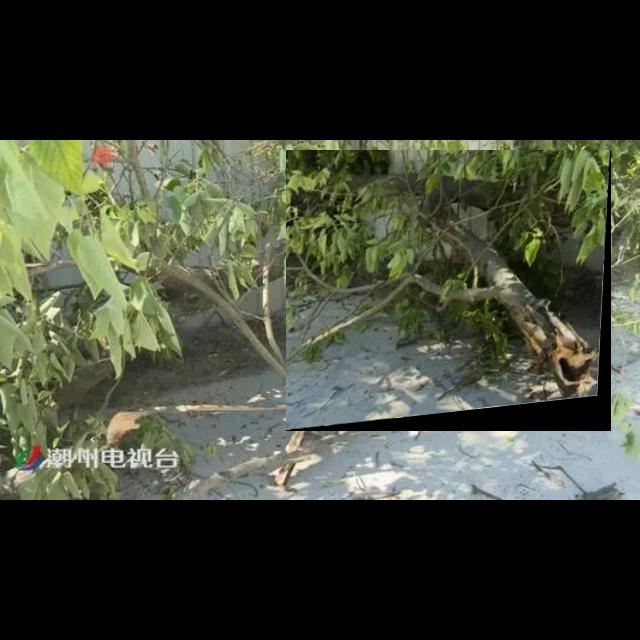Fallen Tree: (286, 150, 612, 432)
